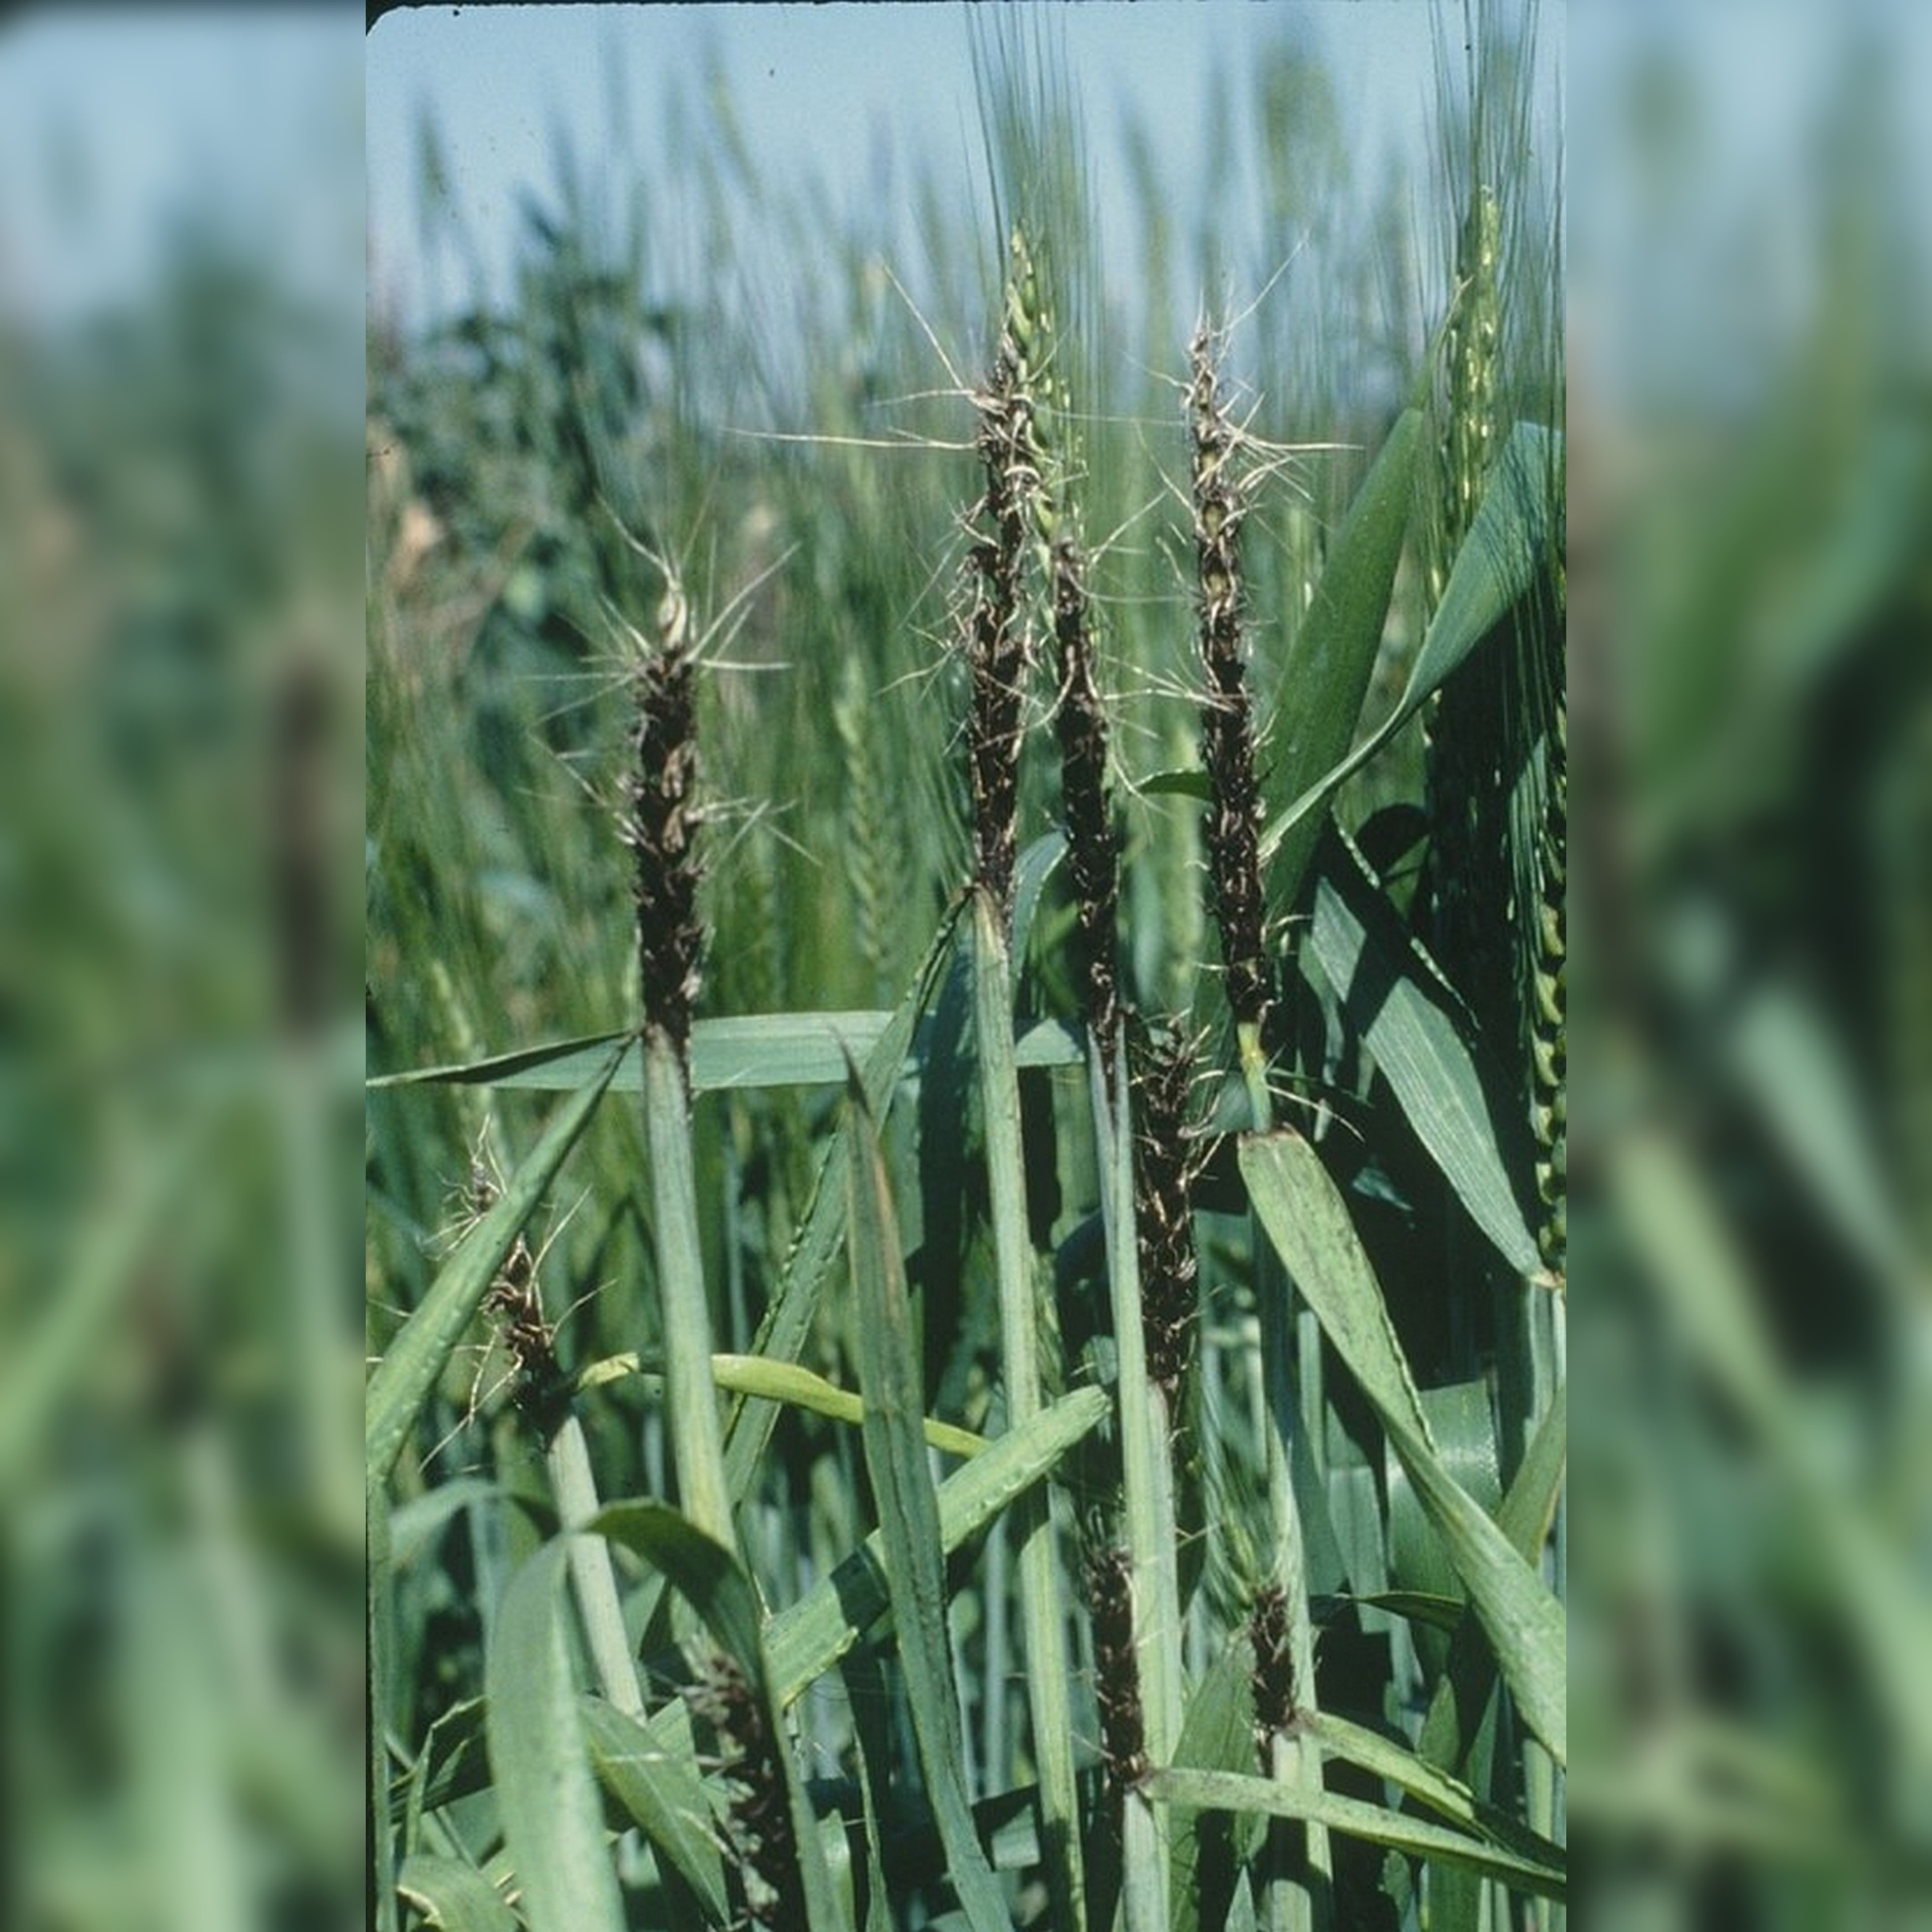Wheat Loose Smut: (885, 403, 1366, 1442), (584, 602, 743, 1058)
